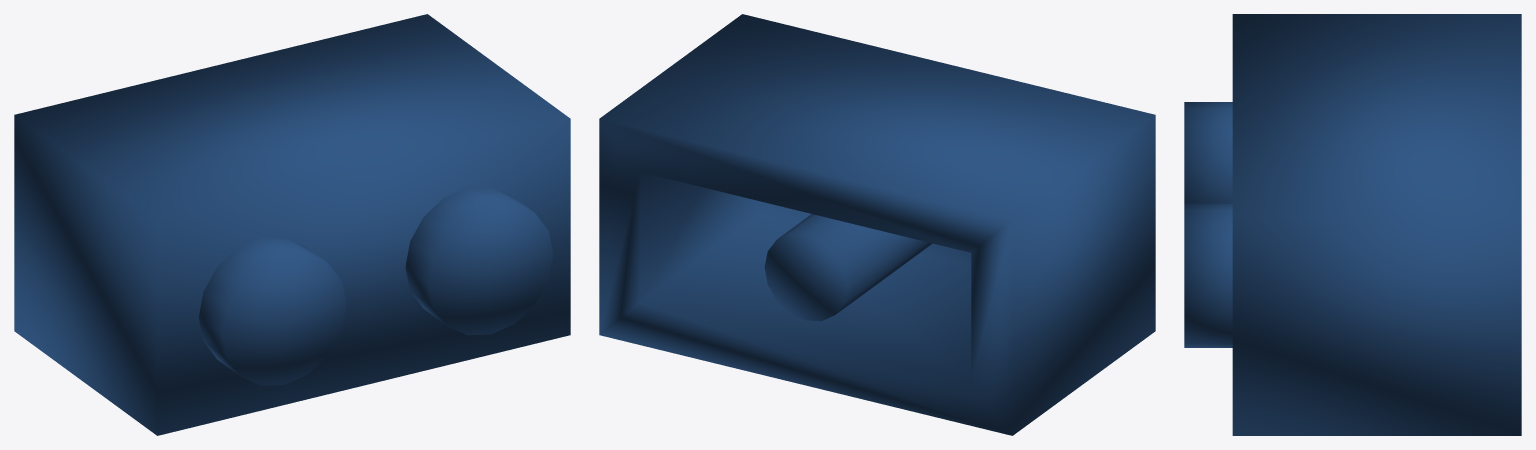
3 renders of one model, left to right at view 1: azimuth 30°, elevation 25°; view 2: azimuth 150°, elevation 25°; view 3: azimuth 270°, elevation 25°, orthographic.
Size of the model in its own units: 16 by 8 by 11.2.
